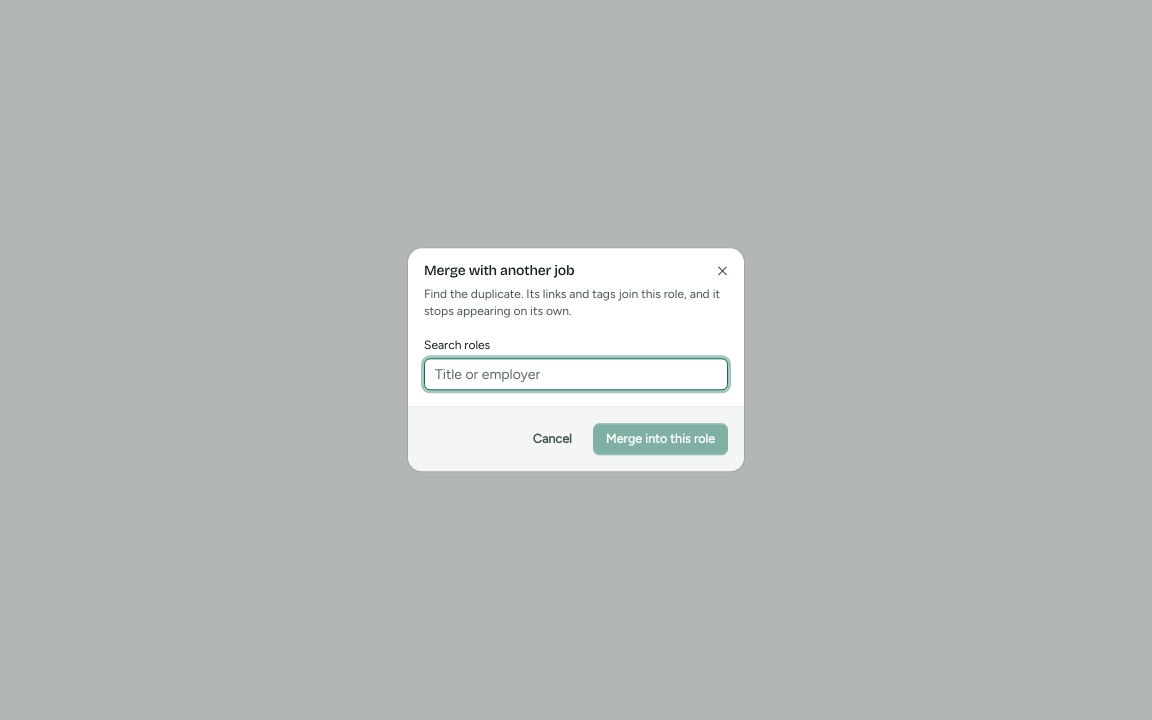
Test case: MergeDialog › does not offer the role itself
The width and height of the screenshot is (1152, 720).
Type "Kafue Analytics" into the field labelled "Search roles" at (576, 375), box x1=424 y1=359 x2=728 y2=391
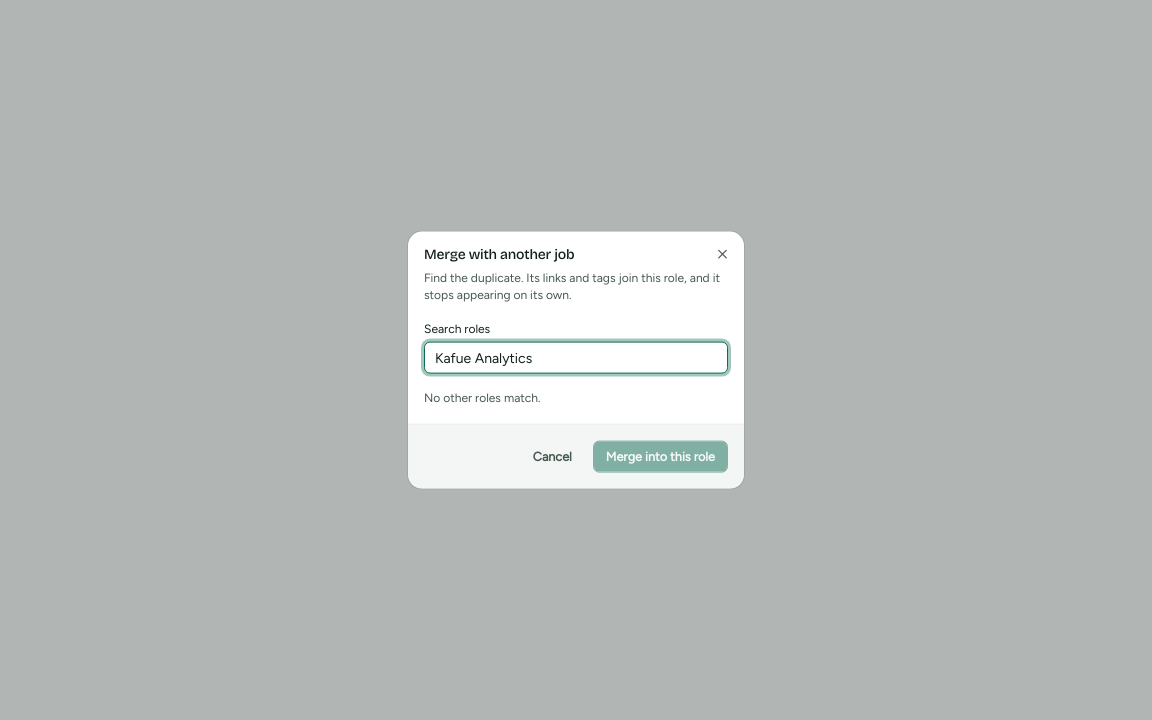
Expected: the text "No other roles match." is shown, x1=424 y1=391 x2=541 y2=405
